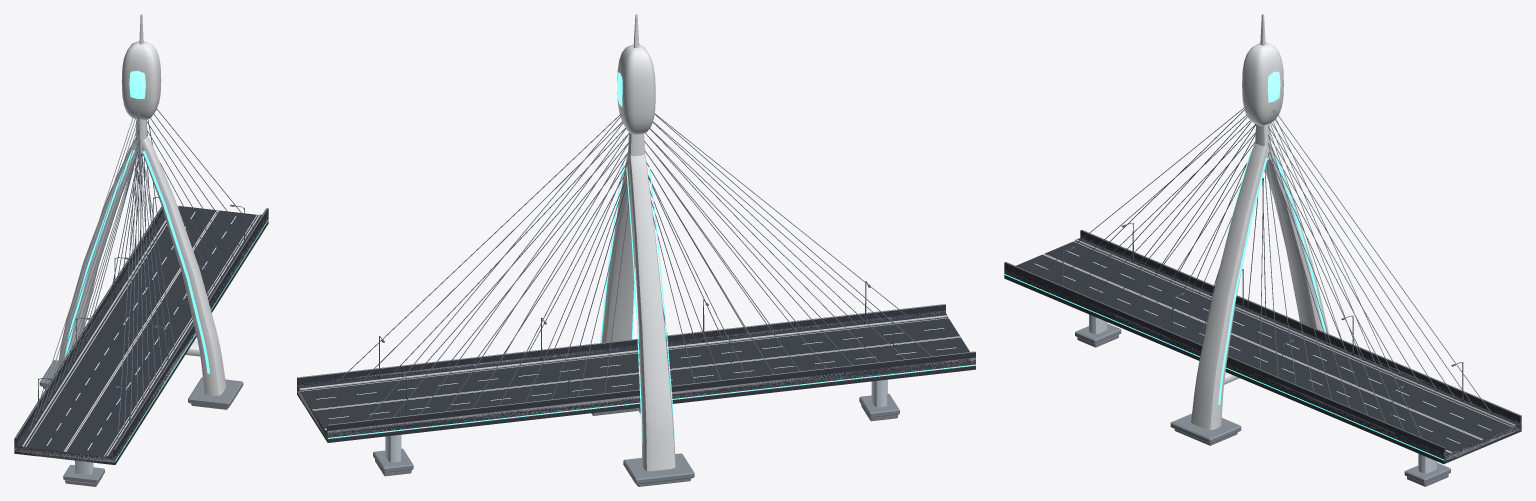
The model's file is ponte_diagonal_estaiada_avenida.glb.
The picture shows the model from 3 angles, left to right: view 1: azimuth 30°, elevation 25°; view 2: azimuth 150°, elevation 25°; view 3: azimuth 270°, elevation 25°; orthographic projection. The views are drawn at different scales.
Parts seen in each view (by area): view 1: colisao_tabuleiro, ponte_diagonal_estaiada_avenida; view 2: ponte_diagonal_estaiada_avenida, colisao_tabuleiro; view 3: colisao_tabuleiro, ponte_diagonal_estaiada_avenida.
Boxes of the visible parts, x1=… form: colisao_tabuleiro: x1=14, y1=205, x2=268, y2=464; ponte_diagonal_estaiada_avenida: x1=14, y1=14, x2=268, y2=486; ponte_diagonal_estaiada_avenida: x1=297, y1=14, x2=975, y2=486; colisao_tabuleiro: x1=297, y1=304, x2=975, y2=442; colisao_tabuleiro: x1=1004, y1=230, x2=1521, y2=463; ponte_diagonal_estaiada_avenida: x1=1004, y1=14, x2=1521, y2=486.
Bounding box in the file's own units: 70.62 × 59.4 × 70.62.
4 materials, 1 textured.
